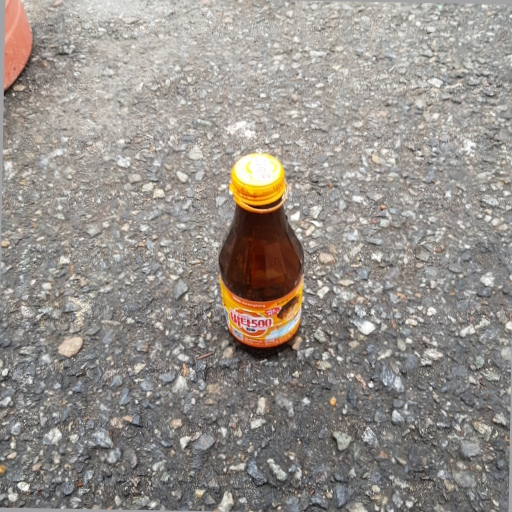Glass_3: (213, 152, 316, 363)
